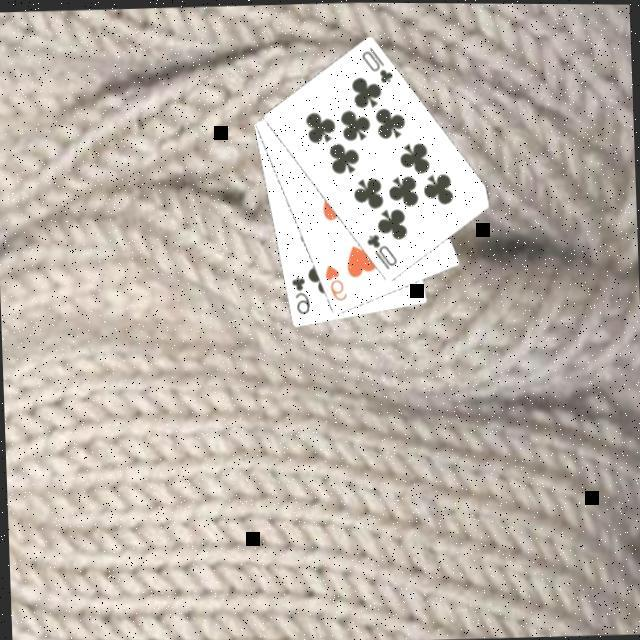10C: (355, 42, 394, 88), (361, 230, 398, 274)
6H: (319, 262, 348, 304)
9C: (285, 272, 311, 318)
